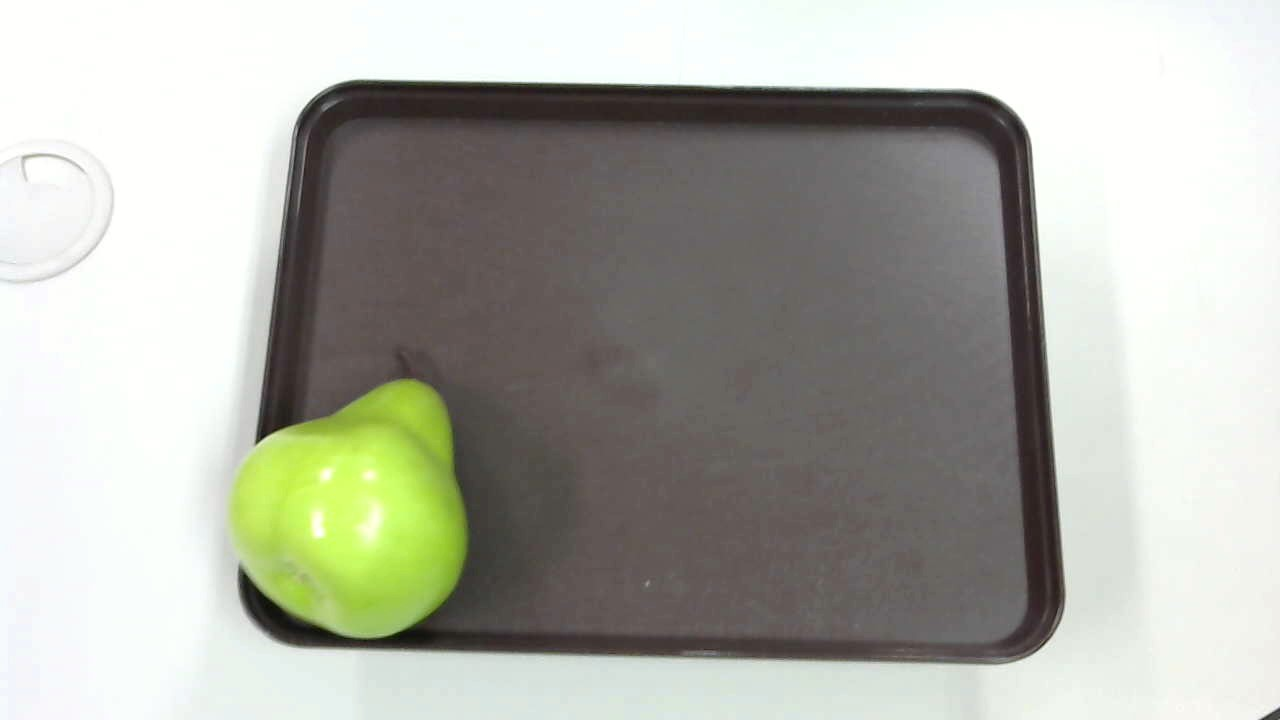green pear: (234, 344, 478, 652)
